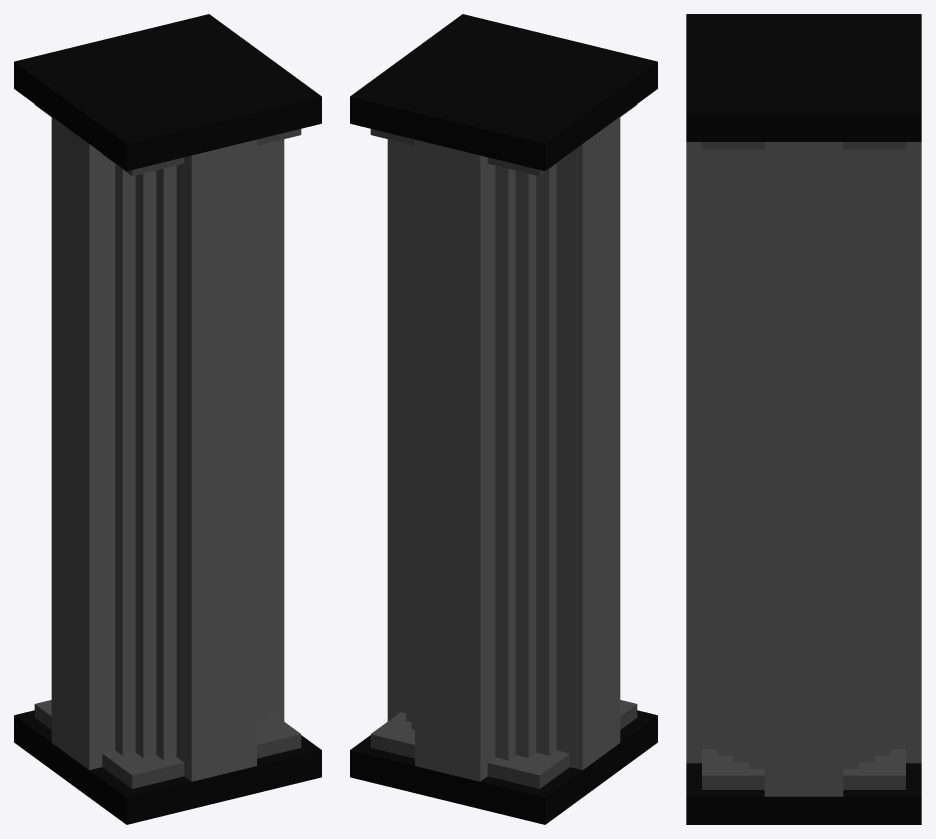
The model's file is Corner-Stone-Model-02.fbx.
The picture shows the model from 3 angles, left to right: view 1: azimuth 30°, elevation 25°; view 2: azimuth 150°, elevation 25°; view 3: azimuth 270°, elevation 25°; orthographic projection. The views are drawn at different scales.
Parts seen in each view (by area): view 1: Corner-Stone-Model-02; view 2: Corner-Stone-Model-02; view 3: Corner-Stone-Model-02.
Boxes of the visible parts, <box> form: Corner-Stone-Model-02: <box>14,14,321,824</box>; Corner-Stone-Model-02: <box>350,14,657,824</box>; Corner-Stone-Model-02: <box>686,14,921,824</box>.
Size of the model in its own units: 15 by 50 by 15.
1 material, 1 textured.
